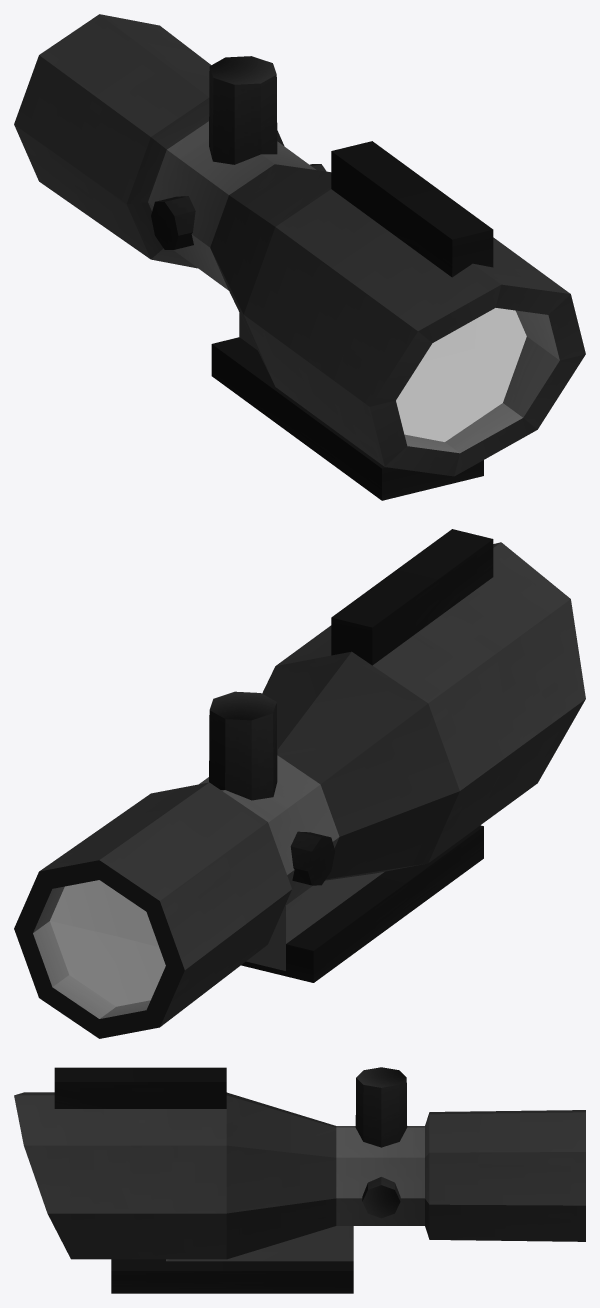
Rendered from ACOG_mesh.fbx.
3 views of the same model, one above another, from view 1: azimuth 30°, elevation 25°; view 2: azimuth 150°, elevation 25°; view 3: azimuth 270°, elevation 25° (orthographic). The views are drawn at different scales.
Parts seen in each view (by area): view 1: ACOG_mesh; view 2: ACOG_mesh; view 3: ACOG_mesh.
Boxes of the visible parts, <box> form: ACOG_mesh: <box>14,14,585,500</box>; ACOG_mesh: <box>14,529,585,1038</box>; ACOG_mesh: <box>14,1067,585,1293</box>.
Bounding box in the file's own units: 4.48 × 5.6 × 14.43.
